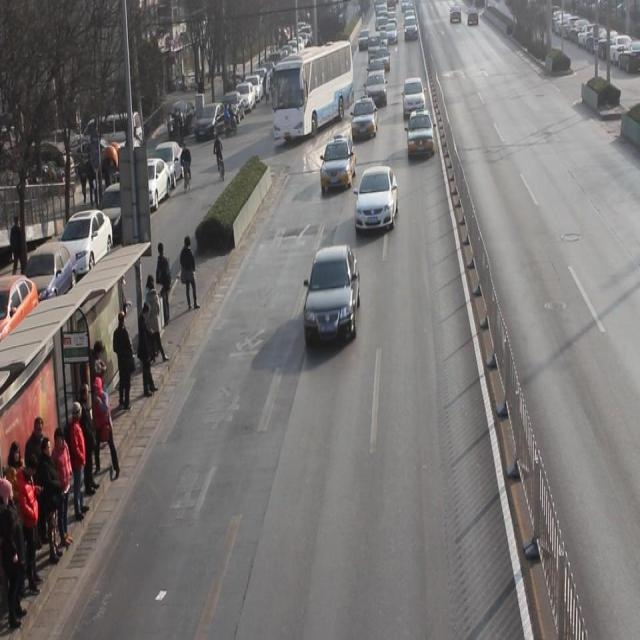car: (303, 246, 361, 348), (354, 167, 398, 235), (320, 139, 358, 193), (406, 113, 435, 161), (351, 97, 378, 142), (402, 77, 427, 122), (364, 72, 388, 108)
van: (272, 40, 354, 140)
